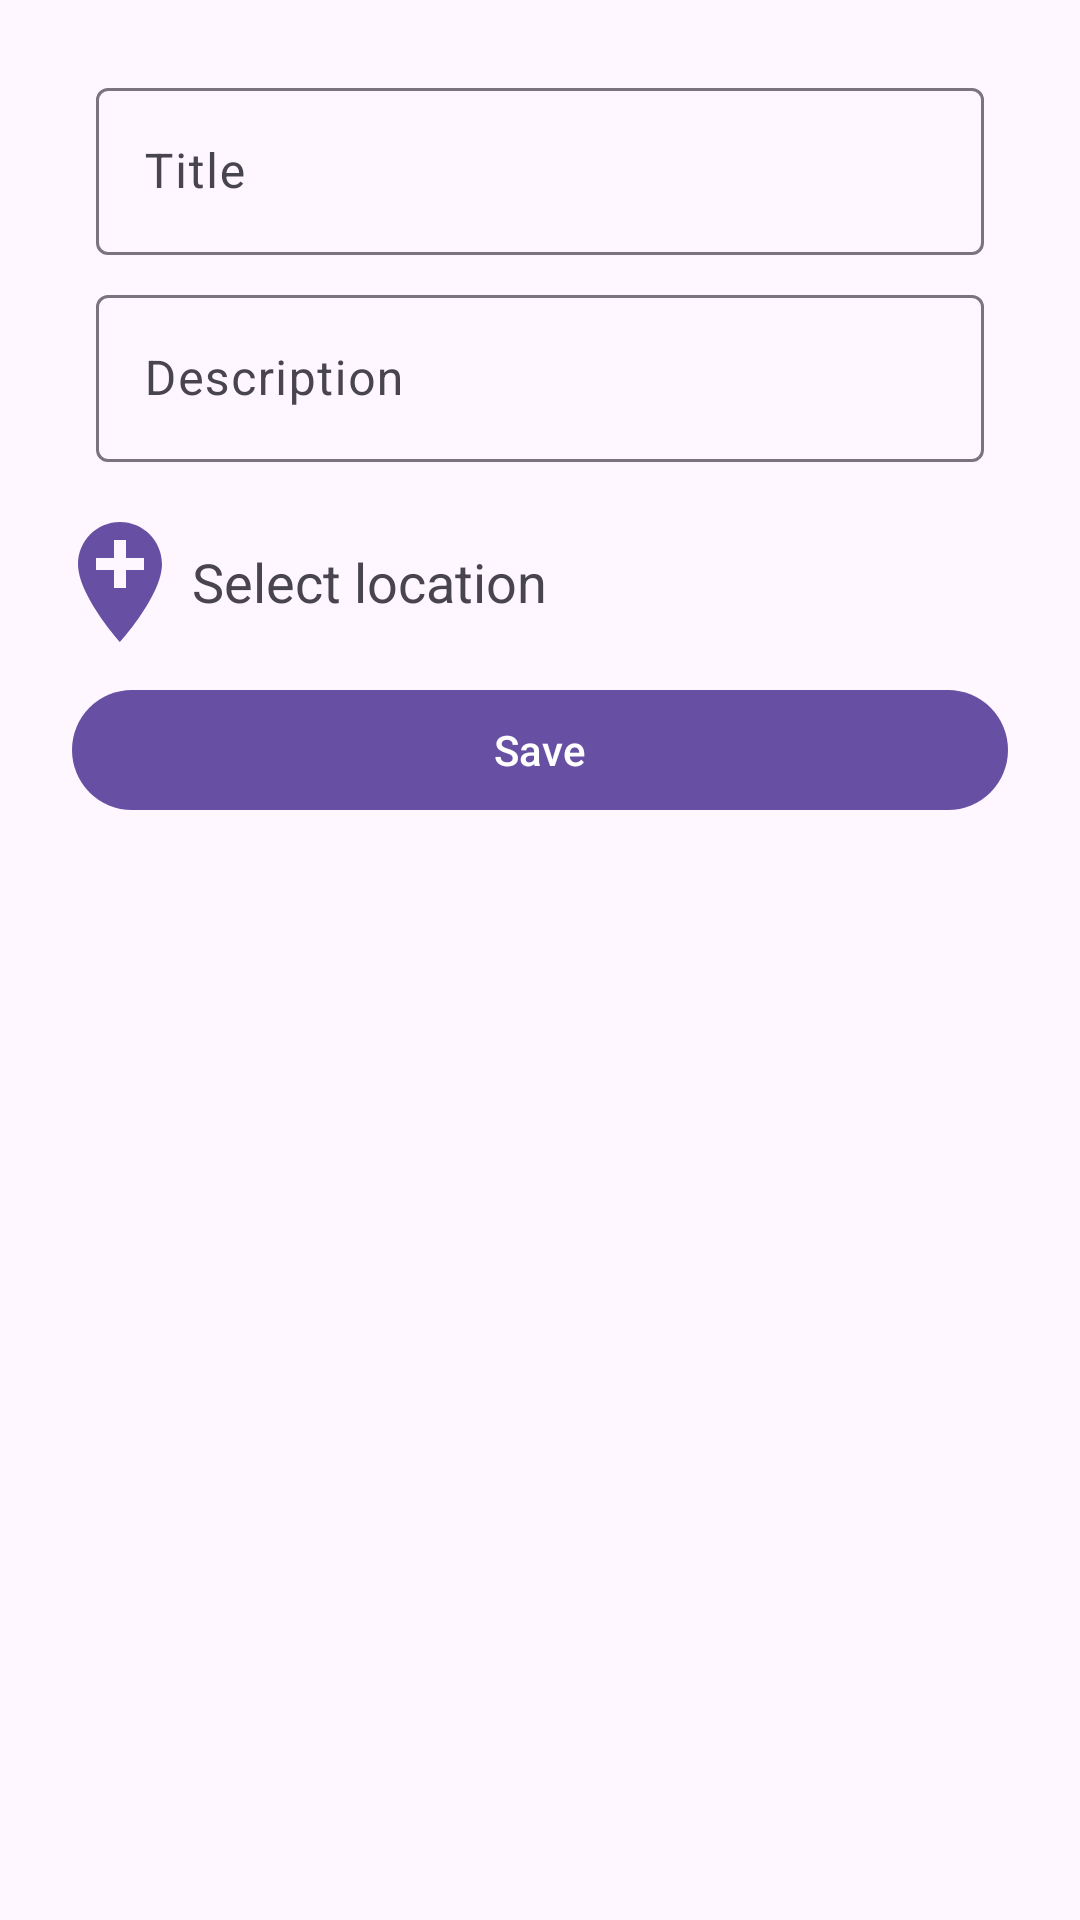

Named icons in this screenshot (1080w x 1920h) and their bounding boxes, detection(x1, y1, x2, y2):
location plus: detection(78, 522, 162, 642)
